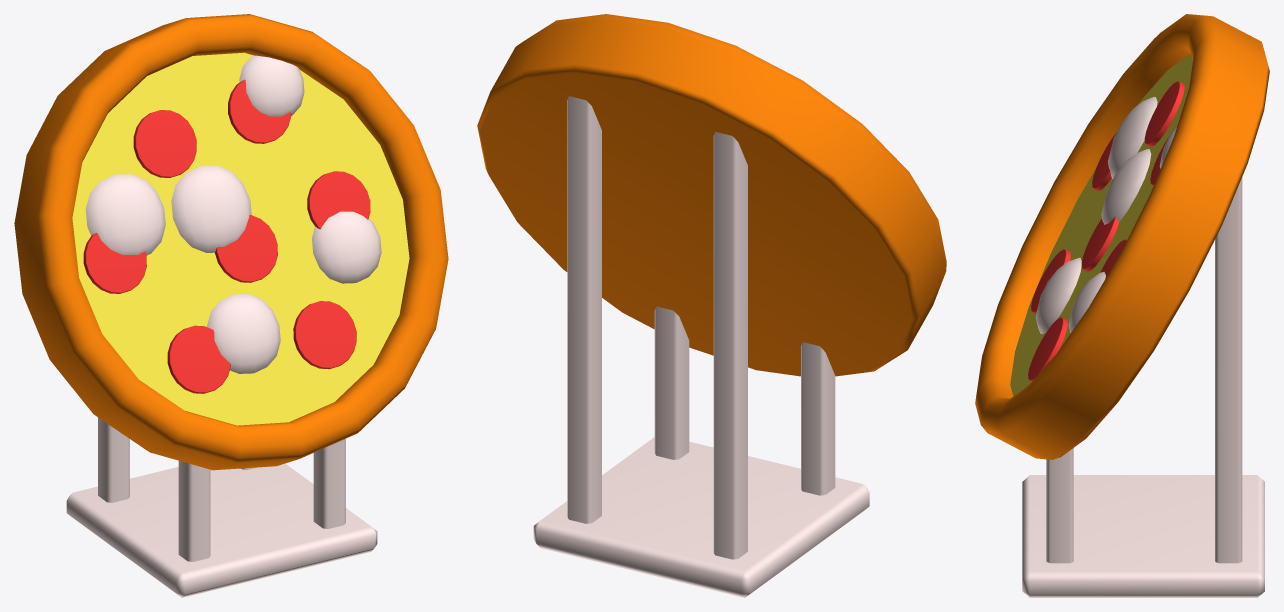
Rendered from Store_1_Pizza_Sign_1.glb.
3 views of the same model, side by side, from view 1: azimuth 30°, elevation 25°; view 2: azimuth 150°, elevation 25°; view 3: azimuth 270°, elevation 25° (orthographic). The views are drawn at different scales.
Visible parts, largest first — view 1: Store_1_Pizza_Sign_1; view 2: Store_1_Pizza_Sign_1; view 3: Store_1_Pizza_Sign_1.
Part boxes in pixels (box(x1,y1,x2,y2)): Store_1_Pizza_Sign_1: box(14, 14, 448, 597); Store_1_Pizza_Sign_1: box(477, 14, 946, 597); Store_1_Pizza_Sign_1: box(975, 14, 1269, 597).
Size of the model in its own units: 2.97 by 3.53 by 1.84.
1 material, 1 textured.
